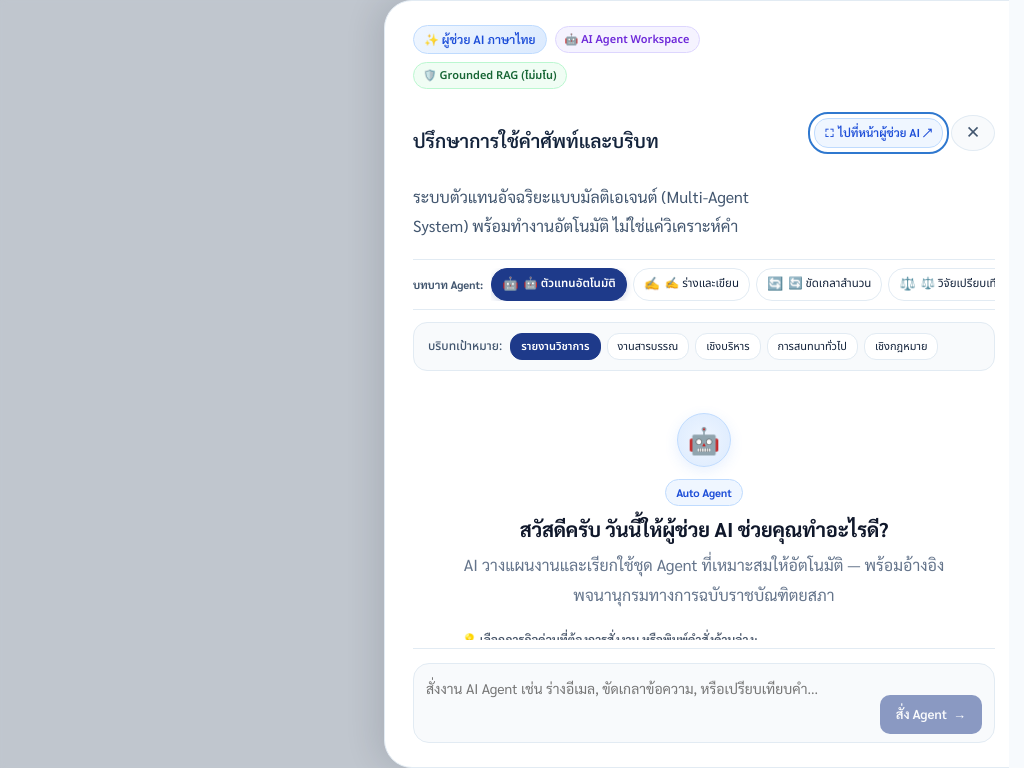
Task: AI Agent Workspace (ผู้ช่วย AI ภาษาไทย as an AI Agent) › switches agent persona and updates placeholder and mission prompts
# Switch to Writing Agent tab
Click the tab "✍️ ✍️ ร่างและเขียน" at [691, 284], box [633,268,750,301]
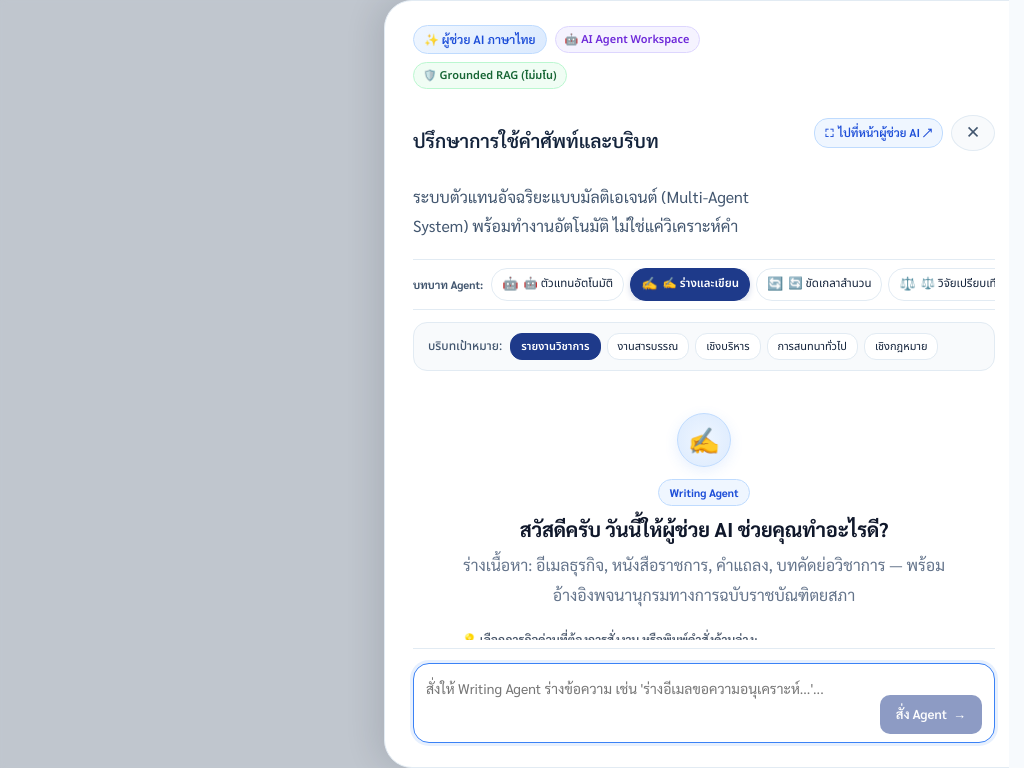
Now the text box with placeholder "สั่งให้ Writing Agent ร่างข้อความ" is shown, box [426,672,872,734]
